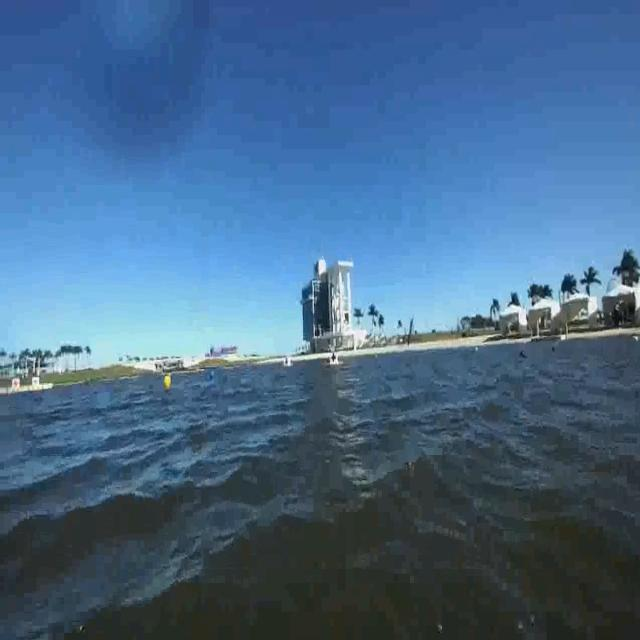yellow-buoy: (162, 372, 170, 391)
